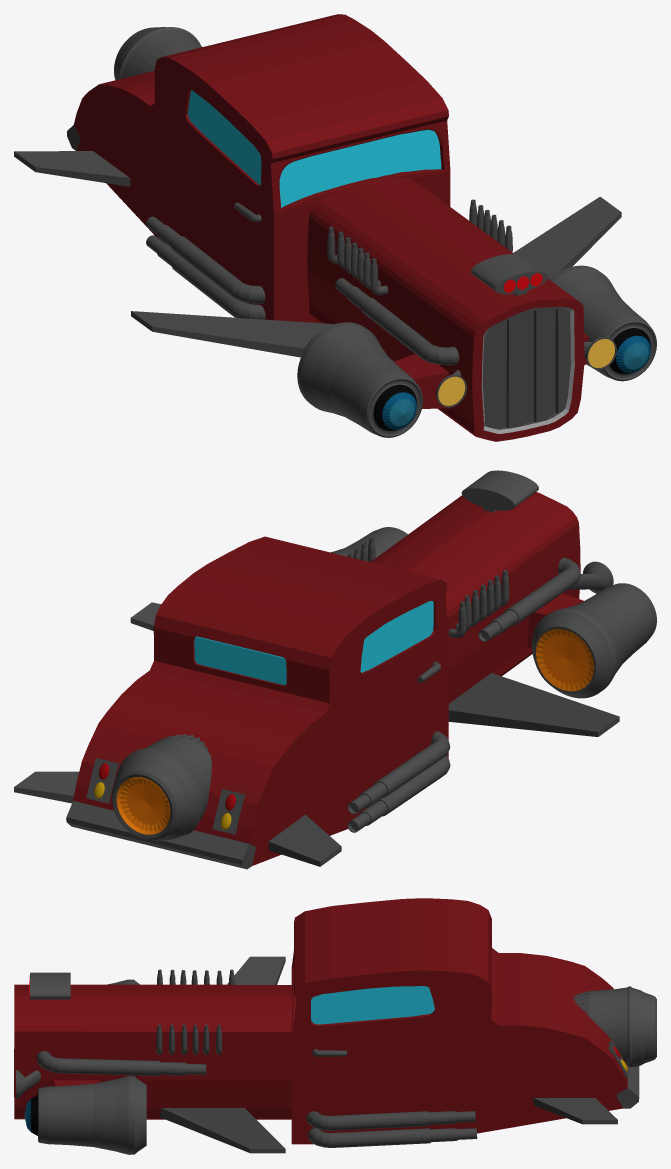
The model's file is HotRod Complete Model.fbx.
3 renders of one model, top to bottom at view 1: azimuth 30°, elevation 25°; view 2: azimuth 150°, elevation 25°; view 3: azimuth 270°, elevation 25°, orthographic. The views are drawn at different scales.
Visible parts, largest first — view 1: Cube.001, Cylinder.001, Cube.002, Cylinder, Cylinder.002, Cylinder.026, Cube.003, Cylinder.024, Cylinder.025, Cylinder.019, Cylinder.004, Cylinder.003; view 2: Cube.001, Cylinder.001, Cylinder.002, Cube.002, Cube.003, Cylinder.026, Cylinder.019, Cylinder.024, Cylinder.025, Cylinder, Cylinder.003, Cube.005 (+1 smaller); view 3: Cube.001, Cylinder, Cube.002, Cylinder.002, Cylinder.027, Cylinder.023, Cylinder.005, Cube.003, Cylinder.019, Cylinder.004.
Part boxes in pixels (bbox=[...]): Cube.001: bbox=[67, 14, 588, 441]; Cylinder.001: bbox=[297, 322, 422, 437]; Cube.002: bbox=[131, 196, 621, 357]; Cylinder: bbox=[549, 265, 656, 381]; Cylinder.002: bbox=[114, 27, 202, 80]; Cylinder.026: bbox=[335, 278, 459, 365]; Cube.003: bbox=[14, 151, 130, 186]; Cylinder.024: bbox=[146, 216, 265, 303]; Cylinder.025: bbox=[146, 235, 265, 319]; Cylinder.019: bbox=[471, 254, 548, 296]; Cylinder.004: bbox=[584, 337, 616, 369]; Cylinder.003: bbox=[436, 370, 466, 407]; Cube.001: bbox=[66, 492, 583, 869]; Cylinder.001: bbox=[531, 583, 656, 698]; Cylinder.002: bbox=[111, 734, 211, 840]; Cube.002: bbox=[130, 602, 619, 736]; Cube.003: bbox=[14, 771, 341, 866]; Cylinder.026: bbox=[478, 557, 580, 641]; Cylinder.019: bbox=[461, 470, 538, 512]; Cylinder.024: bbox=[347, 731, 450, 814]; Cylinder.025: bbox=[347, 755, 450, 832]; Cylinder: bbox=[330, 527, 407, 557]; Cylinder.003: bbox=[568, 561, 613, 593]; Cube.005: bbox=[86, 758, 119, 803]; Cube.001: bbox=[14, 898, 639, 1144]; Cylinder: bbox=[24, 1076, 146, 1154]; Cube.002: bbox=[159, 956, 285, 1153]; Cylinder.002: bbox=[573, 986, 656, 1067]; Cylinder.027: bbox=[36, 1051, 206, 1075]; Cylinder.023: bbox=[306, 1111, 475, 1130]; Cylinder.005: bbox=[307, 1128, 477, 1147]; Cube.003: bbox=[533, 1098, 617, 1124]; Cylinder.019: bbox=[30, 972, 70, 999]; Cylinder.004: bbox=[16, 1070, 40, 1098].
Bounding box in the file's own units: 482 × 204 × 682.
